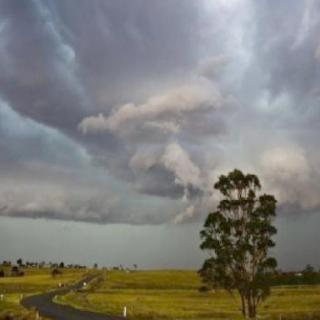Cumulonimbus: (0, 1, 320, 230)
